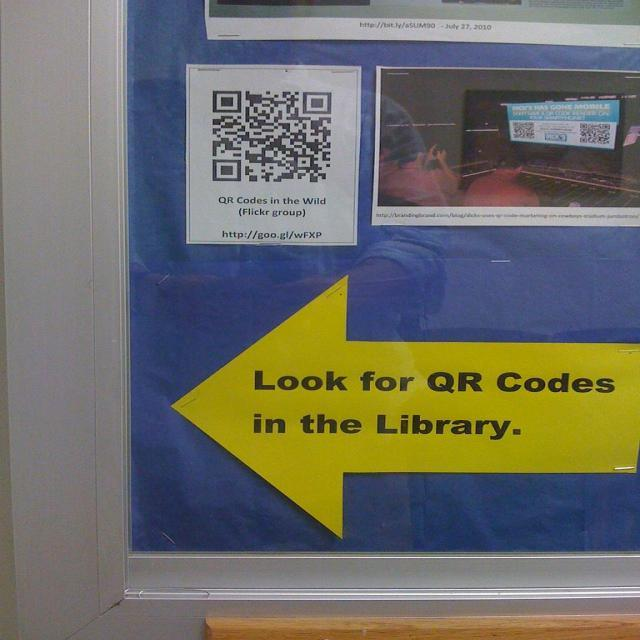qrcode: (213, 92, 332, 184)
